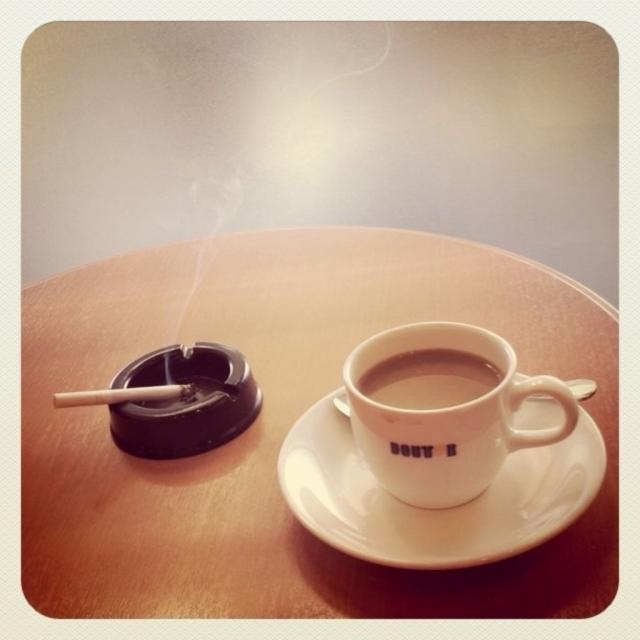Coffee: (329, 332, 573, 512)
Tea: (353, 346, 498, 410)
